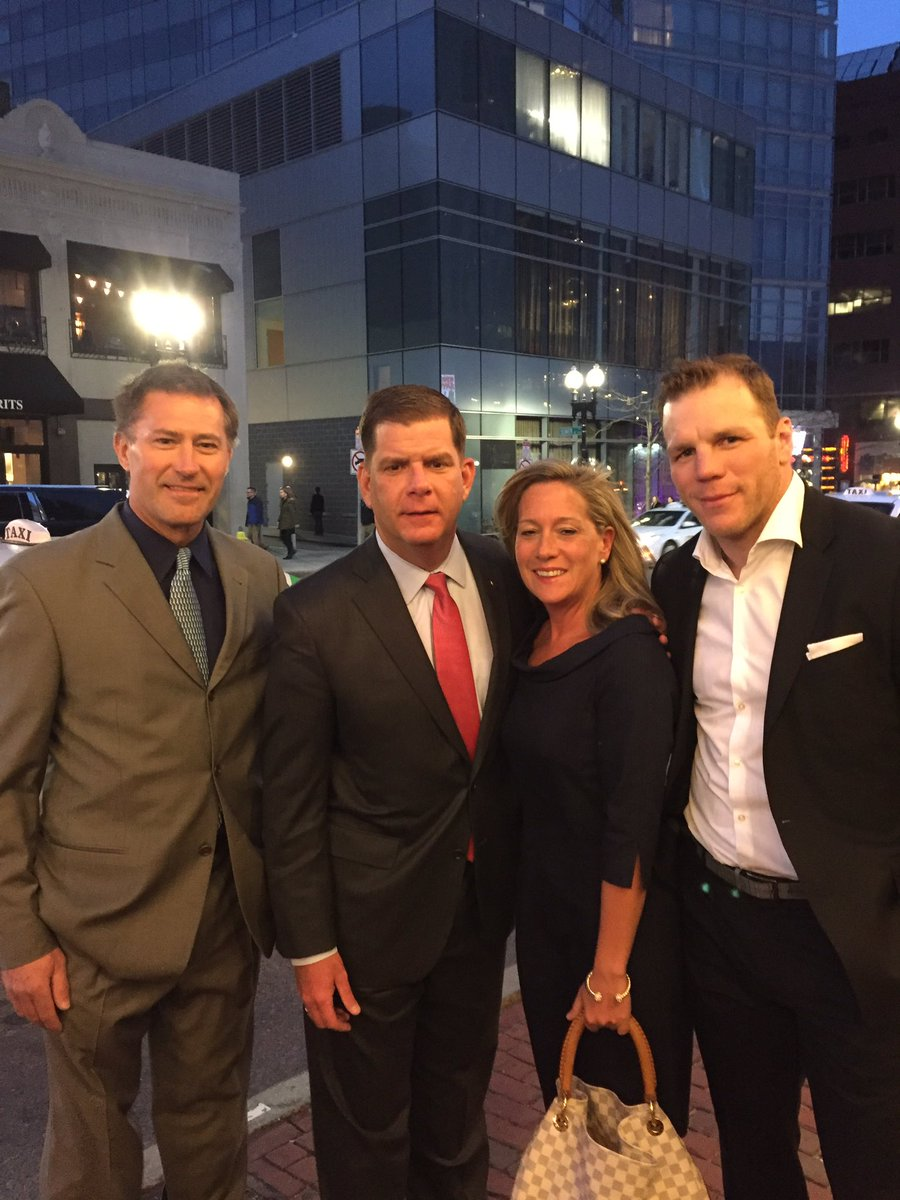Person: (627, 364, 900, 1200), (4, 377, 272, 1200), (309, 400, 495, 1191), (518, 450, 645, 1191)
